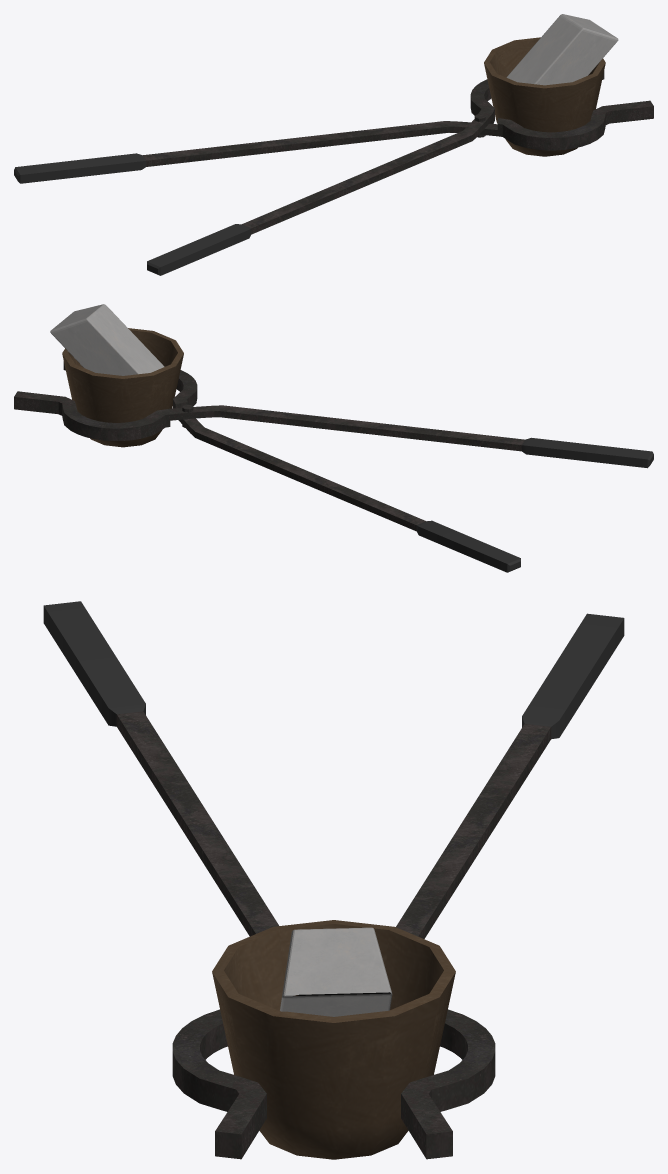
The model's file is Tongs_BlacksmithCrucibleIngot.glb.
3 renders of one model, top to bottom at view 1: azimuth 30°, elevation 25°; view 2: azimuth 150°, elevation 25°; view 3: azimuth 270°, elevation 25°, orthographic. The views are drawn at different scales.
Parts seen in each view (by area): view 1: Tongs_BlackmithCrucibleIngot; view 2: Tongs_BlackmithCrucibleIngot; view 3: Tongs_BlackmithCrucibleIngot.
Boxes of the visible parts, left/top/right/bottom form: Tongs_BlackmithCrucibleIngot: left=14, top=14, right=653, bottom=275; Tongs_BlackmithCrucibleIngot: left=14, top=304, right=653, bottom=572; Tongs_BlackmithCrucibleIngot: left=43, top=601, right=624, bottom=1159.
Size of the model in its own units: 5.03 by 0.9997 by 2.32.
Materials: 1 (1 with a texture image).
